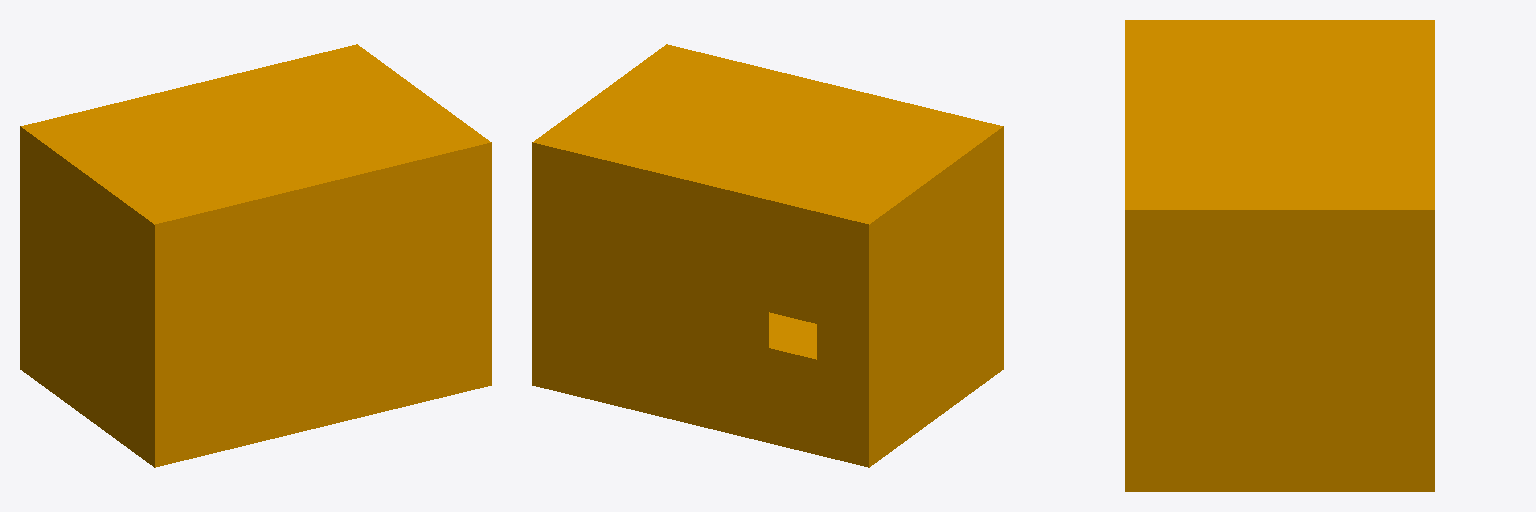
The robot description file, URDF, robot "oil-res-simple.off":
<?xml version="1.0"?>
<robot name="oil-res-simple.off">
	<link name="oil-res-simple.off">
		<inertial>
			<!--origin xyz="0 0 0" rpy="0 0 0" /-->
			<mass value="0.5" />
			<!--inertia ixx="0.000360" ixy="0" ixz="0" iyy="0.0000615" iyz="0" izz="0.00036" /-->
		</inertial>
    		<visual>
	      		<!--origin rpy="0 0 0" xyz="0 0 0"/-->
      			<geometry>
        			<mesh filename="oil-res-simple.off.obj"/>
      			</geometry>
         	</visual>
    		<collision>
      			<!--origin rpy="0 0 0" xyz="0 0 0"/-->
      			<geometry>
        			<mesh filename="oil-res-simple.off.obj"/>
      			</geometry>
    		</collision>
	</link>
</robot>

--- What the picture shows (computed from the rendered views, not written in the file) ---
The picture shows the robot from 3 angles, left to right: view 1: azimuth 30°, elevation 25°; view 2: azimuth 150°, elevation 25°; view 3: azimuth 270°, elevation 25°; orthographic projection.
Robot: oil-res-simple.off — 1 links, 0 joints (none); root link oil-res-simple.off; default pose: every joint at zero.
Visible links, largest first — view 1: oil-res-simple.off; view 2: oil-res-simple.off; view 3: oil-res-simple.off.
Boxes of the visible links, x1,y1,x2,y2 form: oil-res-simple.off: (20,44,491,467); oil-res-simple.off: (532,44,1003,467); oil-res-simple.off: (1125,20,1434,491).
Bounding box of the posed robot: 34.8 × 24 × 24 m (x, y, z).
Meshes: 1 distinct files referenced, 1 mesh visuals loaded (1 OBJ).